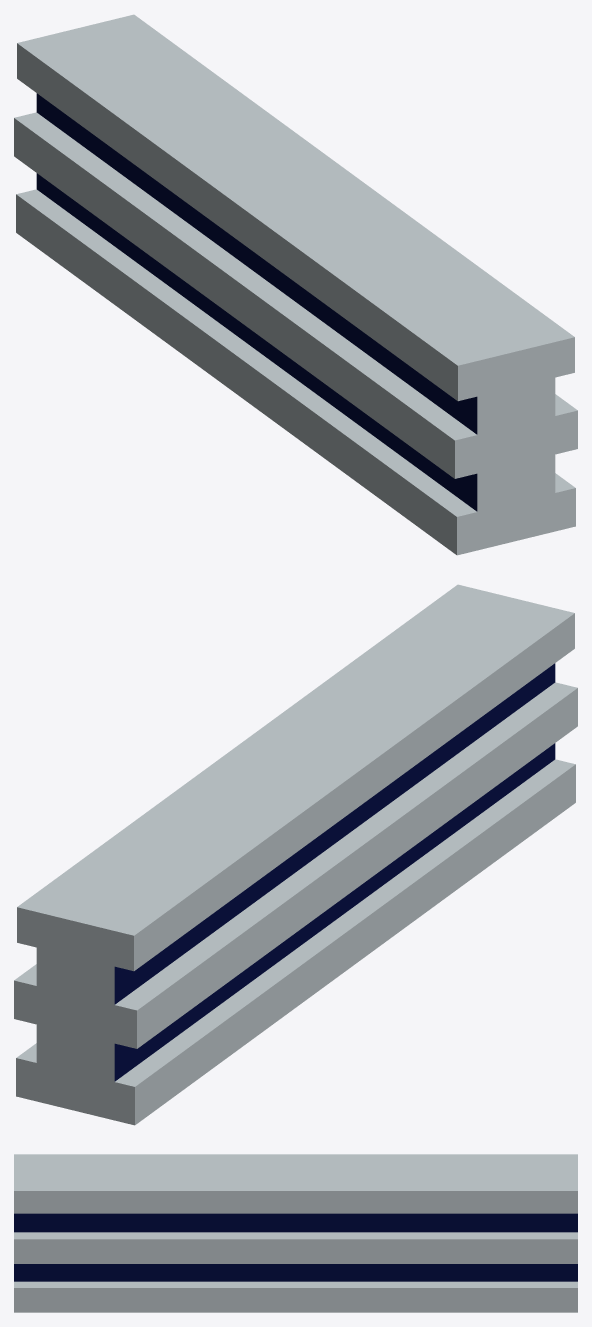
Rendered from wall.glb.
The picture shows the model from 3 angles, top to bottom: view 1: azimuth 30°, elevation 25°; view 2: azimuth 150°, elevation 25°; view 3: azimuth 270°, elevation 25°; orthographic projection. The views are drawn at different scales.
Visible parts, largest first — view 1: Cube; view 2: Cube; view 3: Cube.
Boxes of the visible parts, x1,y1,x2,y2 form: Cube: (14, 14, 577, 555); Cube: (14, 584, 577, 1125); Cube: (14, 1154, 577, 1312).
Size of the model in its own units: 3.16 by 4.65 by 19.6.
